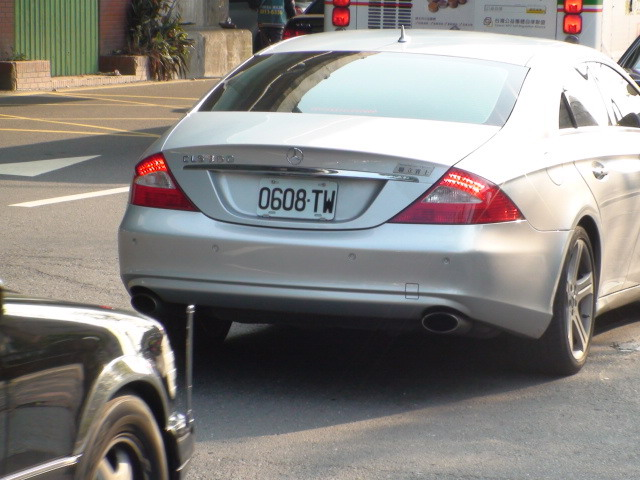plate: (257, 171, 340, 225)
